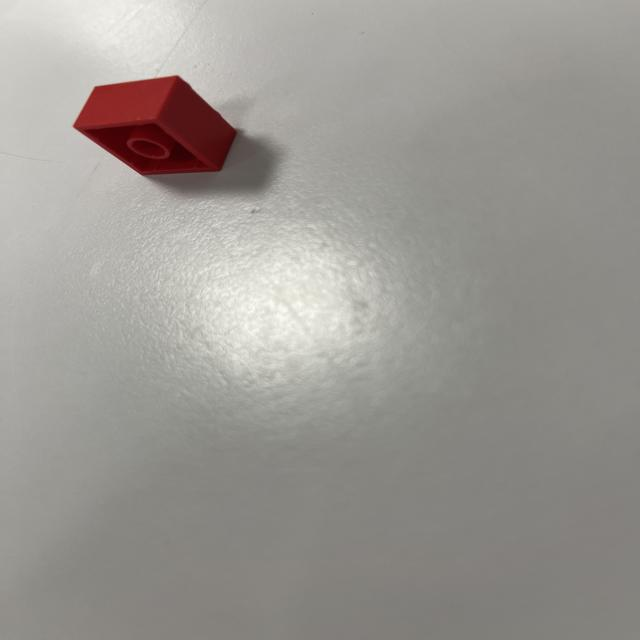C2x2x1: (72, 76, 238, 183)
